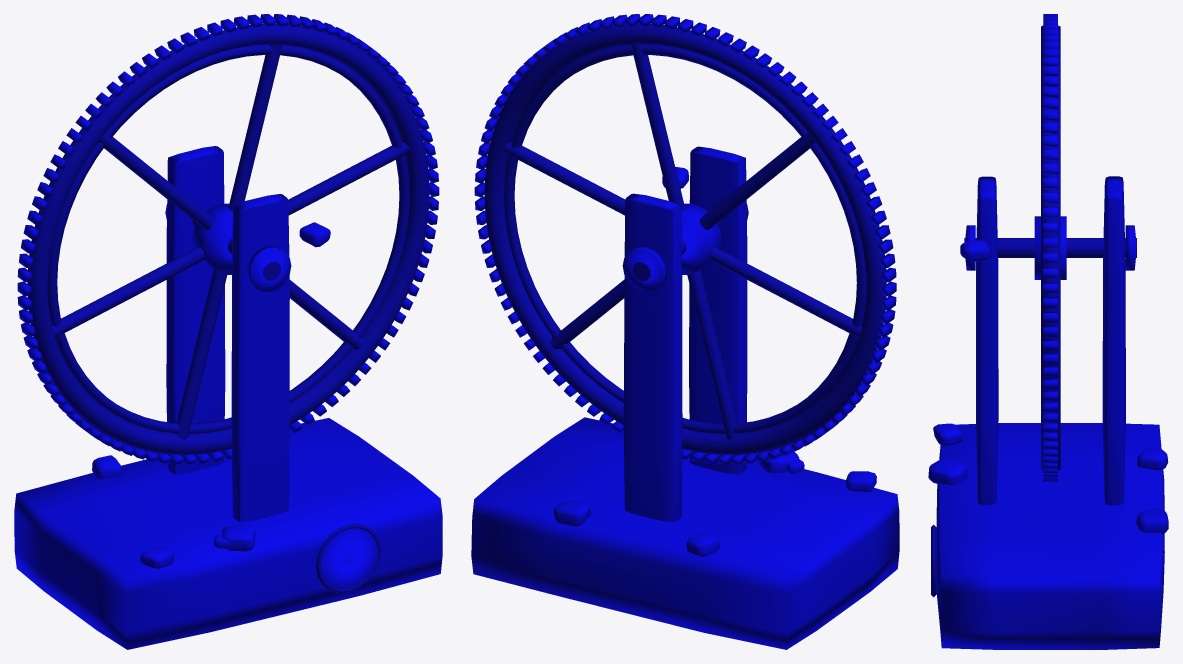
The model's file is gauge_wheel.glb.
The picture shows the model from 3 angles, left to right: view 1: azimuth 30°, elevation 25°; view 2: azimuth 150°, elevation 25°; view 3: azimuth 270°, elevation 25°; orthographic projection. The views are drawn at different scales.
Parts seen in each view (by area): view 1: gauge_wheel; view 2: gauge_wheel; view 3: gauge_wheel.
Boxes of the visible parts, x1=… form: gauge_wheel: x1=14, y1=14, x2=442, y2=649; gauge_wheel: x1=471, y1=14, x2=899, y2=649; gauge_wheel: x1=928, y1=14, x2=1168, y2=649.
Size of what is drawn, in the model's own units: 2.06 by 2.63 by 1.06.
